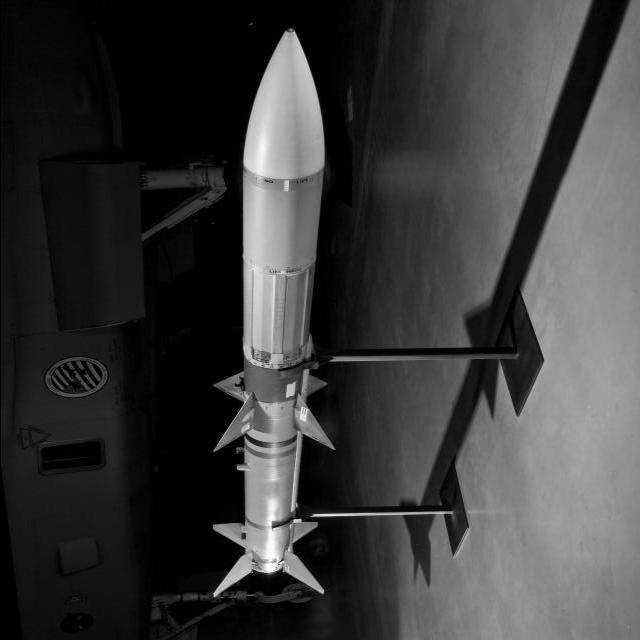Missile: (201, 7, 331, 607)
